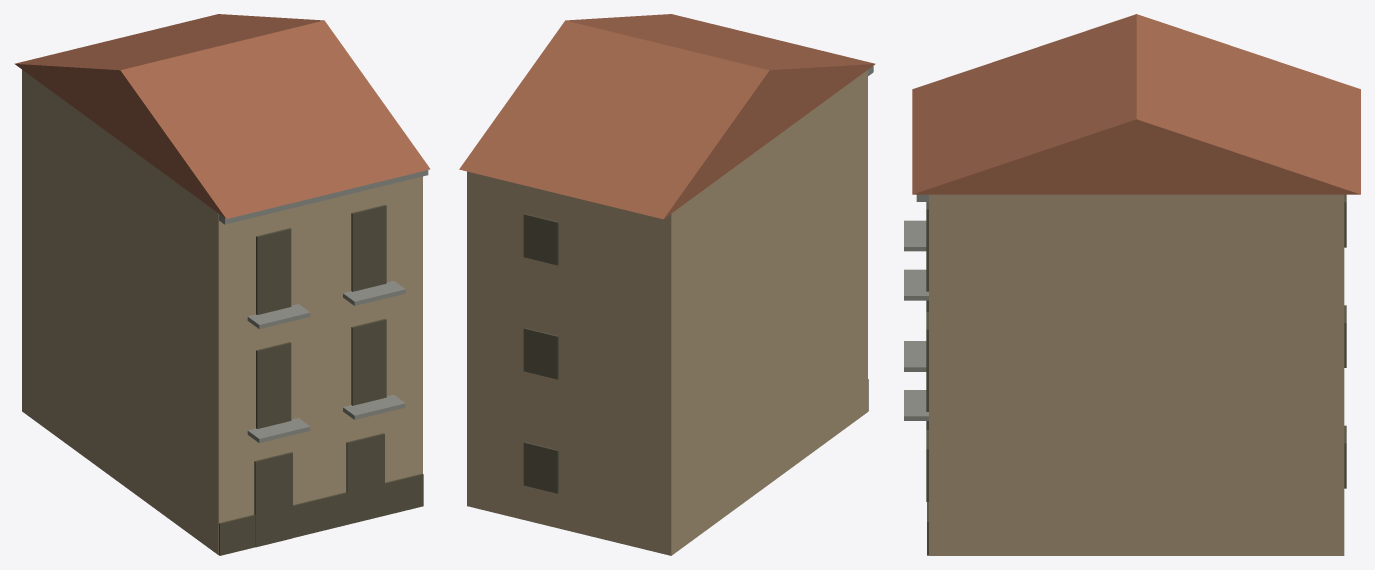
File: SM_casa_pueblo_v1_LOD1.fbx
3 views of the same model, side by side, from view 1: azimuth 30°, elevation 25°; view 2: azimuth 150°, elevation 25°; view 3: azimuth 270°, elevation 25° (orthographic). The views are drawn at different scales.
Visible parts, largest first — view 1: SM_casa_pueblo_v1_LOD1; view 2: SM_casa_pueblo_v1_LOD1; view 3: SM_casa_pueblo_v1_LOD1.
Part boxes in pixels (x1,y1,x2,y2): SM_casa_pueblo_v1_LOD1: [14, 14, 430, 555]; SM_casa_pueblo_v1_LOD1: [459, 14, 875, 555]; SM_casa_pueblo_v1_LOD1: [904, 14, 1360, 555].
Size of the model in its own units: 6 by 11.6 by 11.
